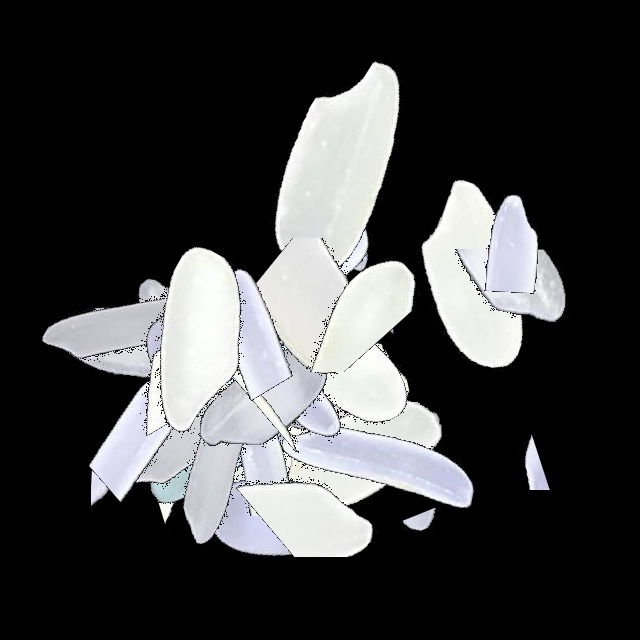Broken: (76, 293, 249, 543), (0, 175, 165, 425), (172, 234, 422, 397), (122, 415, 372, 565), (202, 238, 452, 383), (115, 377, 365, 516), (170, 202, 308, 452), (382, 249, 632, 384), (445, 100, 578, 350), (250, 166, 500, 295), (199, 428, 449, 557), (134, 297, 384, 425), (194, 245, 444, 372), (106, 228, 227, 478), (215, 265, 465, 366), (58, 363, 308, 464), (244, 348, 337, 598), (363, 400, 613, 490), (111, 468, 361, 554), (77, 462, 327, 546), (229, 231, 313, 481), (300, 133, 383, 383), (114, 259, 195, 509), (91, 363, 172, 613), (324, 505, 574, 584), (104, 309, 354, 384)
Full: (148, 263, 398, 513), (183, 341, 433, 591), (178, 232, 428, 482), (139, 362, 389, 612), (355, 149, 605, 399), (177, 258, 427, 508), (231, 334, 481, 584), (170, 156, 420, 406), (252, 339, 502, 589), (143, 254, 393, 504), (180, 243, 430, 493), (203, 229, 453, 479), (144, 390, 394, 640), (107, 312, 357, 562), (0, 216, 250, 466), (214, 39, 464, 289), (69, 210, 319, 460), (160, 233, 410, 483), (60, 314, 310, 564), (91, 347, 341, 597), (137, 272, 387, 522), (113, 209, 363, 459), (80, 211, 330, 461), (67, 216, 317, 466)
